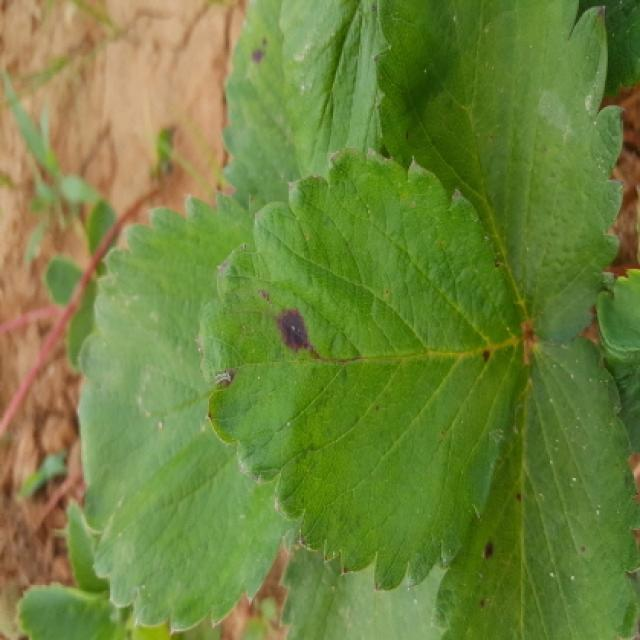Leaf Spot: (196, 146, 529, 593), (374, 0, 625, 338), (434, 332, 638, 638), (215, 0, 387, 214)
